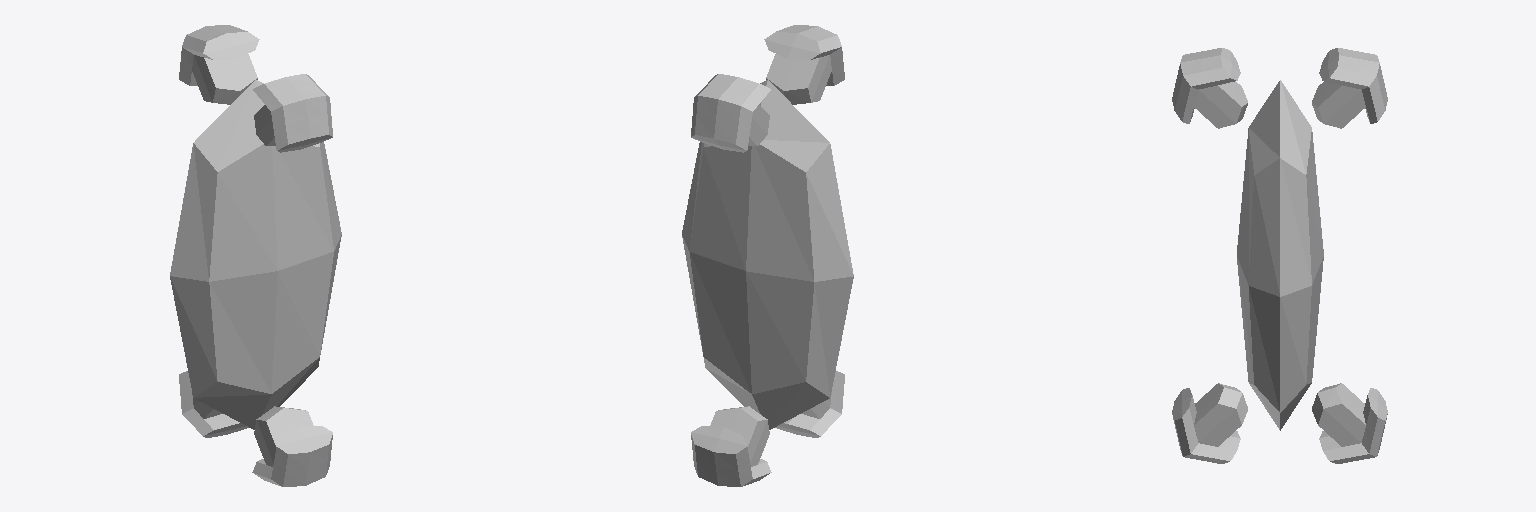
The model's file is grow.obj.
The picture shows the model from 3 angles: view 1: azimuth 30°, elevation 25°; view 2: azimuth 150°, elevation 25°; view 3: azimuth 270°, elevation 25°; orthographic projection.
Parts seen in each view (by area): view 1: Cube; view 2: Cube; view 3: Cube.
Boxes of the visible parts, x1,y1,x2,y2 form: Cube: [170, 25, 341, 486]; Cube: [682, 25, 853, 486]; Cube: [1172, 48, 1387, 463].
Size of the model in its own units: 1.68 by 3.74 by 1.82.